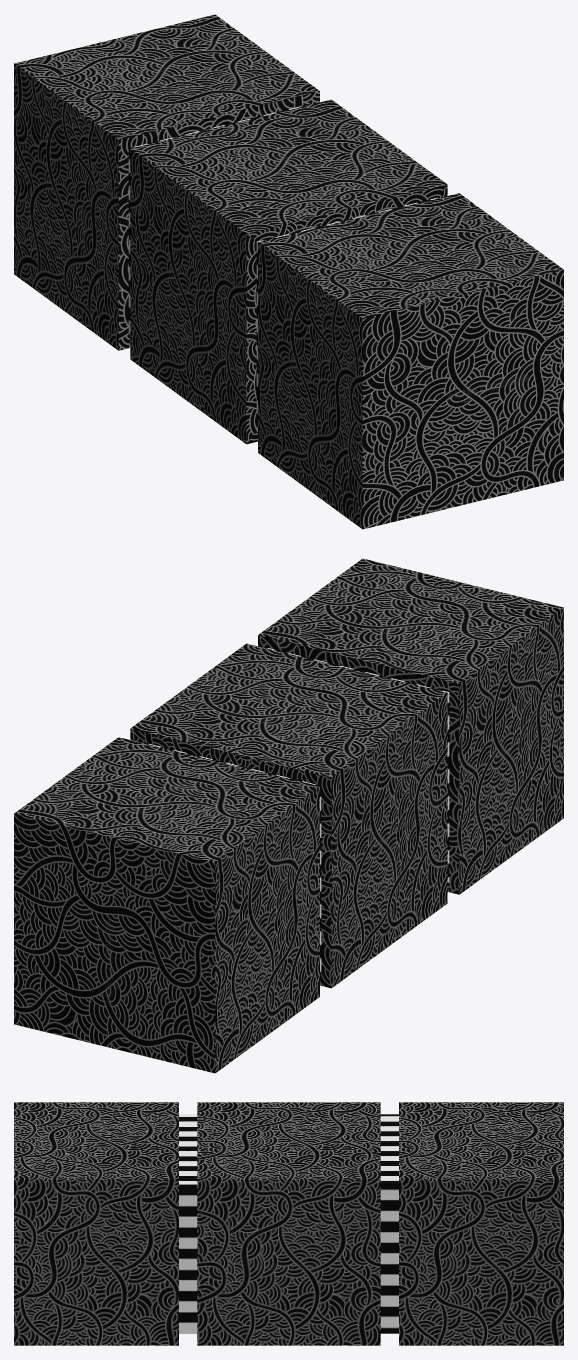
The model's file is DestoyPlatform.fbx.
3 renders of one model, top to bottom at view 1: azimuth 30°, elevation 25°; view 2: azimuth 150°, elevation 25°; view 3: azimuth 270°, elevation 25°, orthographic. The views are drawn at different scales.
Parts seen in each view (by area): view 1: RedStone, Cube.001; view 2: RedStone, Cube.001; view 3: RedStone, Cube.001.
Boxes of the visible parts, box(x1,y1,x2,y2) form: RedStone: box(14, 14, 563, 529); Cube.001: box(128, 104, 437, 431); RedStone: box(14, 558, 563, 1073); Cube.001: box(140, 648, 449, 975); RedStone: box(14, 1102, 563, 1345); Cube.001: box(179, 1114, 398, 1333).
Size of the model in its own units: 200 by 200 by 600.
